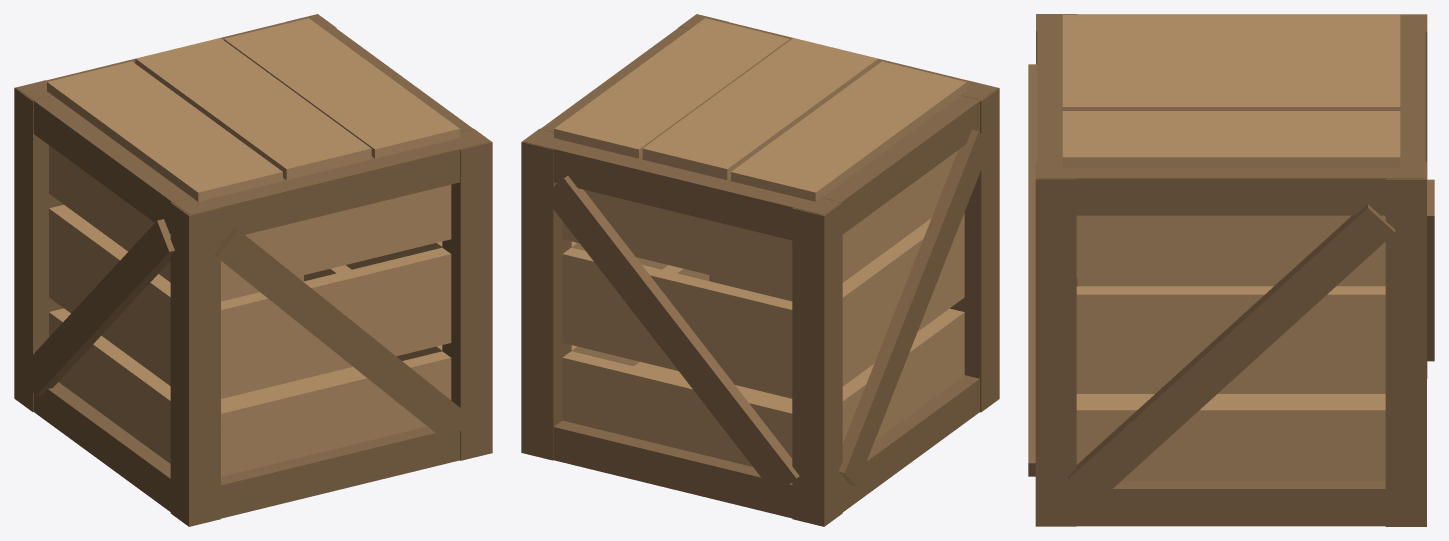
File: crate_debris.glb
3 renders of one model, left to right at view 1: azimuth 30°, elevation 25°; view 2: azimuth 150°, elevation 25°; view 3: azimuth 270°, elevation 25°, orthographic. The views are drawn at different scales.
Visible parts, largest first — view 1: FrontPanel, Lid, LeftPanel, Base, BackPanel, RightPanel; view 2: BackPanel, Lid, LeftPanel, Base, RightPanel, FrontPanel; view 3: RightPanel, Lid, FrontPanel, Base, LeftPanel, BackPanel.
Part boxes in pixels (x1,y1,x2,y2): FrontPanel: [214, 129, 492, 476]; Lid: [16, 14, 490, 240]; LeftPanel: [23, 145, 220, 526]; Base: [33, 367, 459, 518]; BackPanel: [14, 80, 303, 411]; RightPanel: [287, 14, 442, 360]; BackPanel: [543, 176, 842, 526]; Lid: [523, 14, 997, 240]; LeftPanel: [838, 81, 999, 486]; Base: [553, 362, 979, 518]; RightPanel: [521, 128, 709, 460]; FrontPanel: [678, 14, 792, 301]; RightPanel: [1067, 162, 1426, 526]; Lid: [1037, 14, 1425, 215]; FrontPanel: [1028, 64, 1076, 526]; Base: [1076, 394, 1385, 526]; LeftPanel: [1036, 14, 1385, 286]; BackPanel: [1425, 14, 1434, 378].
Size of the model in its own units: 0.89 by 0.871 by 0.89.
